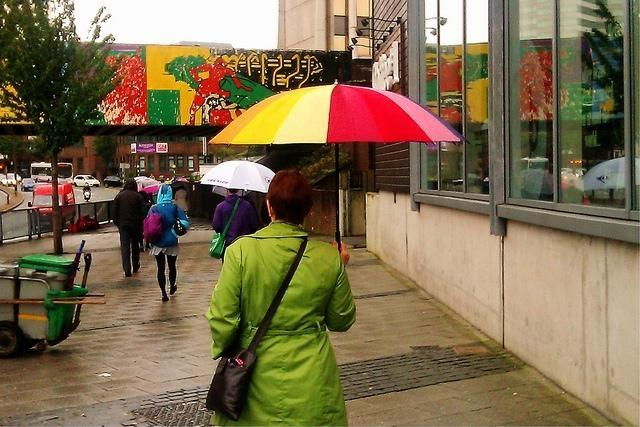bus: (31, 162, 74, 185)
car: (74, 175, 100, 187), (0, 172, 16, 187), (20, 178, 34, 193), (103, 176, 120, 188), (17, 174, 21, 182)
motorcycle: (84, 189, 90, 202)
truck: (27, 182, 76, 228)
